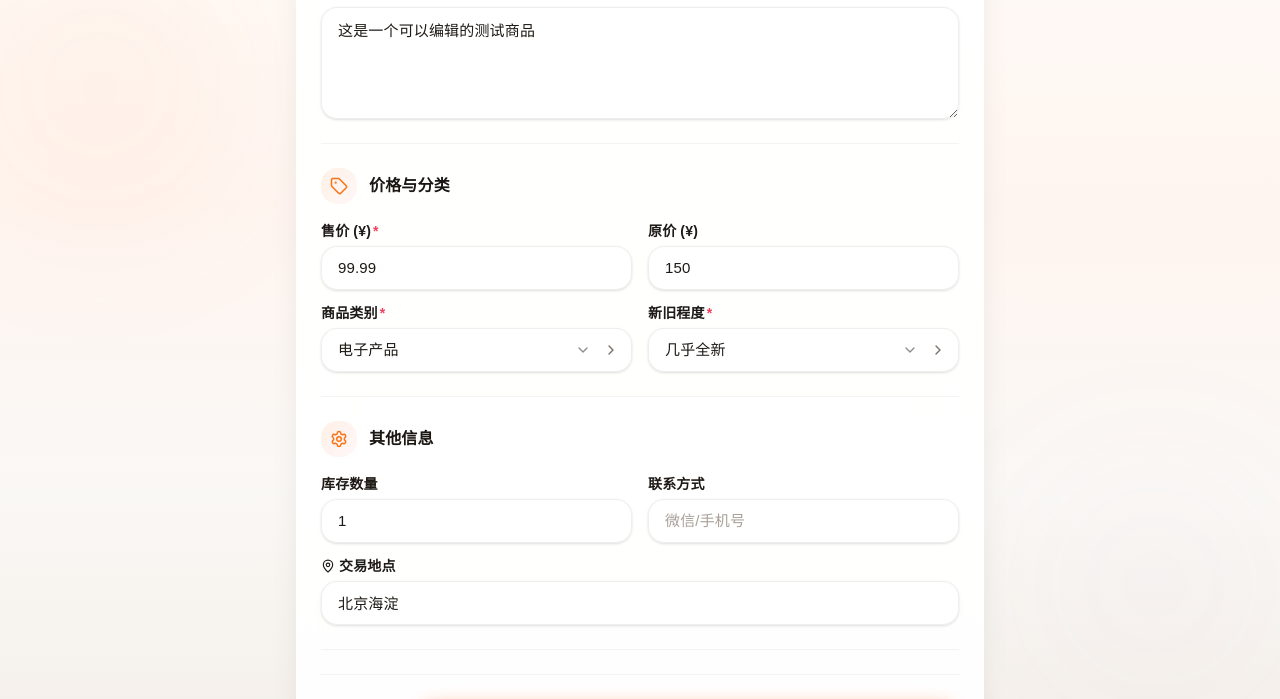
it: EditProductPage › renders category select with options
(page scrolled)
Step 1. Click the dropdown named "商品类别" → (368, 350), box [321,328,632,372]
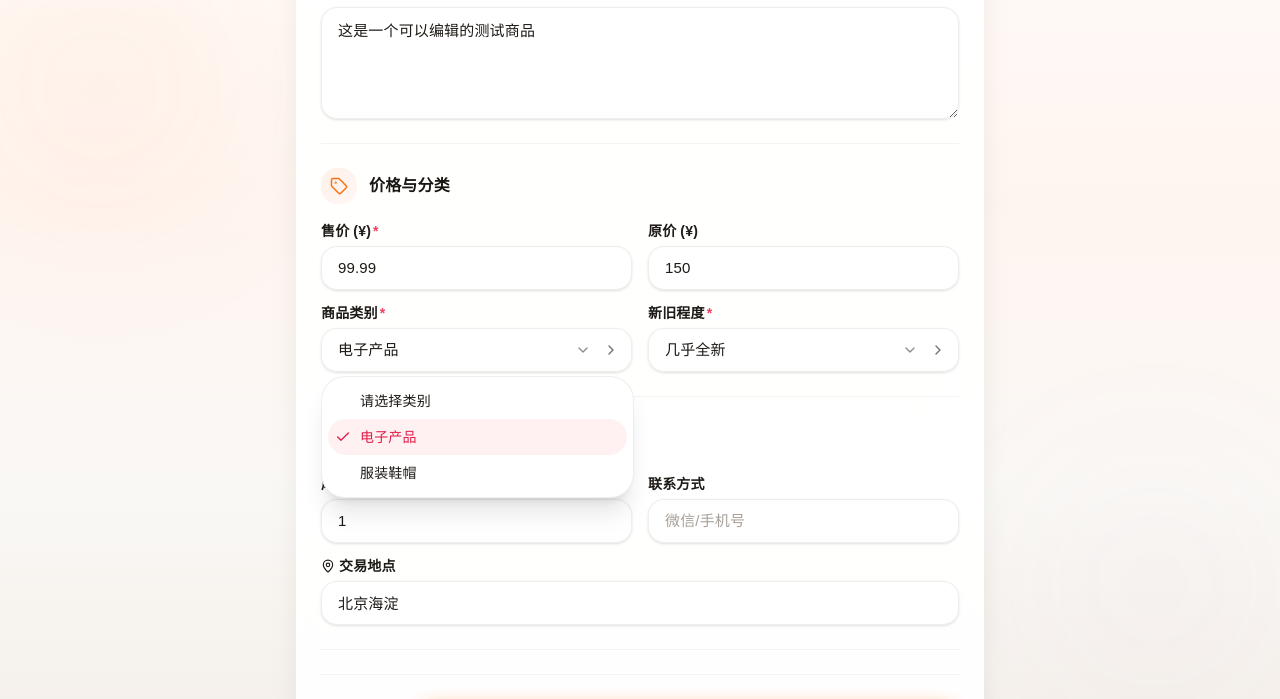
Expected: the option "电子产品" is shown, [328,419,627,455]
Expected: the option "服装鞋帽" is shown, [360,465,417,481]
